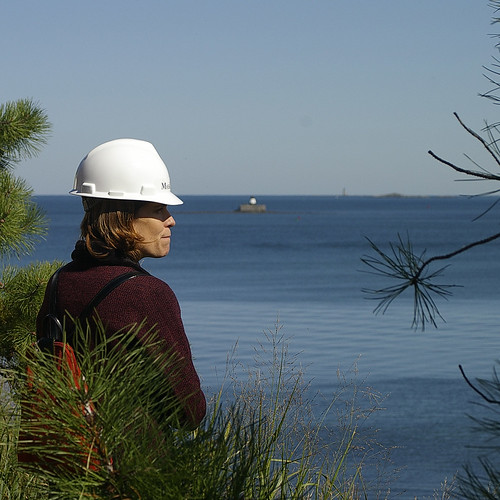person hardhat: (39, 113, 233, 471)
